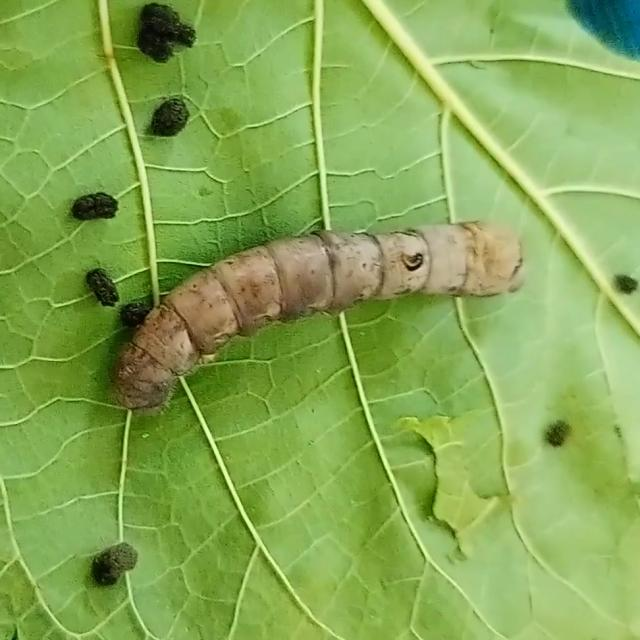Grasserie: (100, 186, 540, 436)
